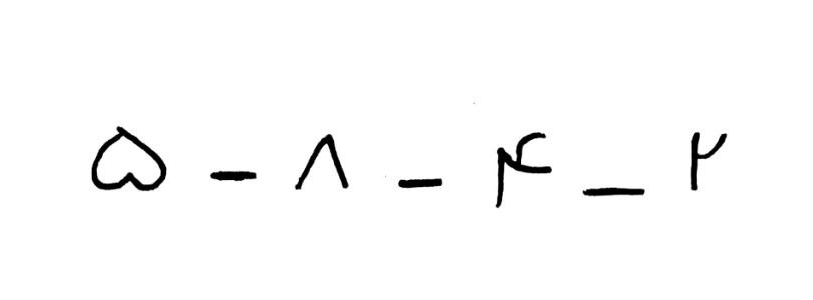character: (90, 121, 168, 193), (494, 130, 552, 209), (293, 132, 349, 191), (692, 129, 735, 193), (581, 185, 645, 199), (209, 168, 259, 184), (399, 177, 445, 188)
